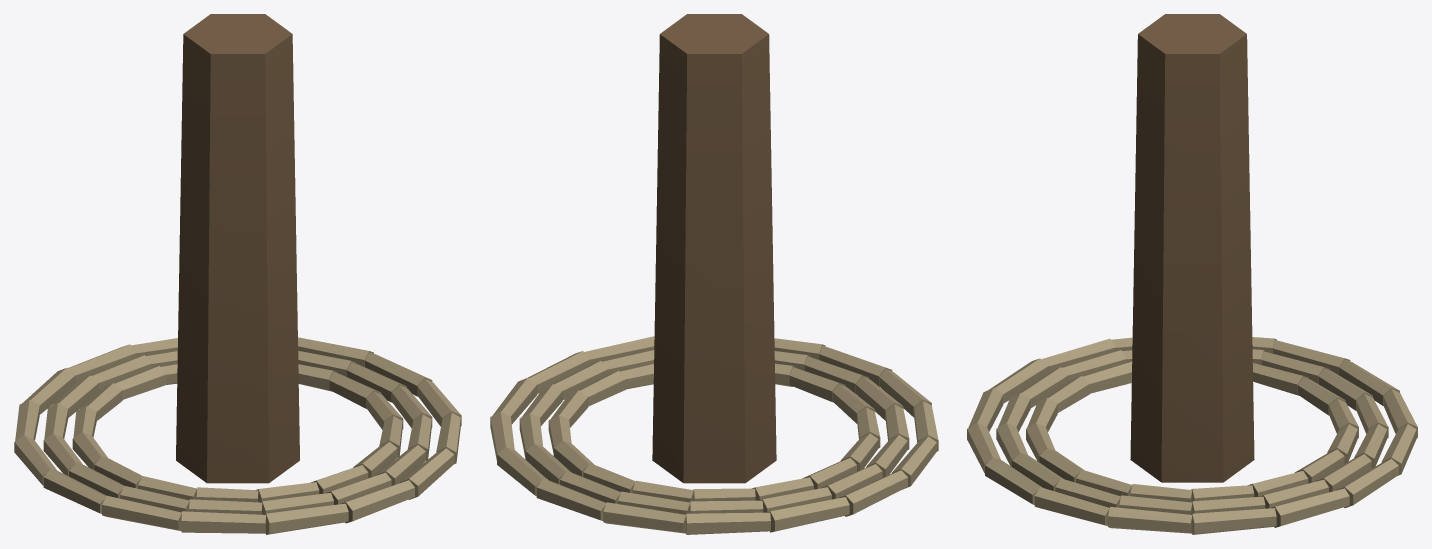
File: mooring.glb
The picture shows the model from 3 angles, left to right: view 1: azimuth 30°, elevation 25°; view 2: azimuth 150°, elevation 25°; view 3: azimuth 270°, elevation 25°; orthographic projection.
Visible parts, largest first — view 1: mooring; view 2: mooring; view 3: mooring.
Part boxes in pixels (x1,y1,x2,y2): mooring: (14,14,461,534); mooring: (490,14,938,534); mooring: (967,14,1417,534).
Bounding box in the file's own units: 0.6906 × 0.72 × 0.6906.
